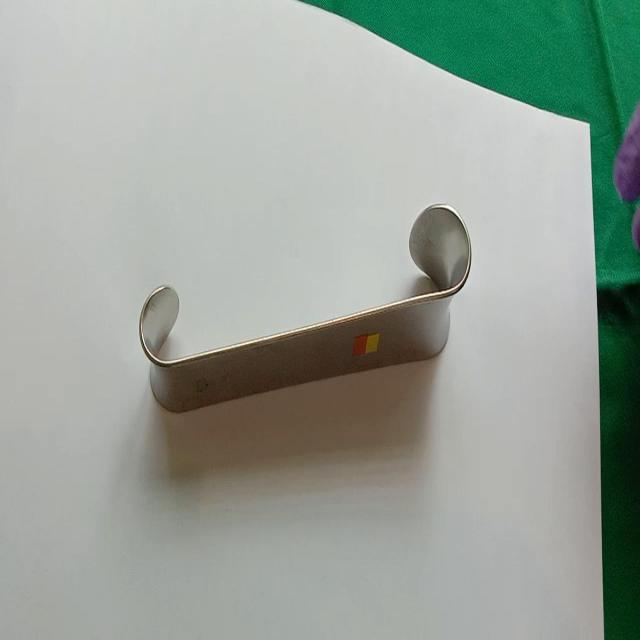CheekRetractor: (138, 200, 476, 415)
